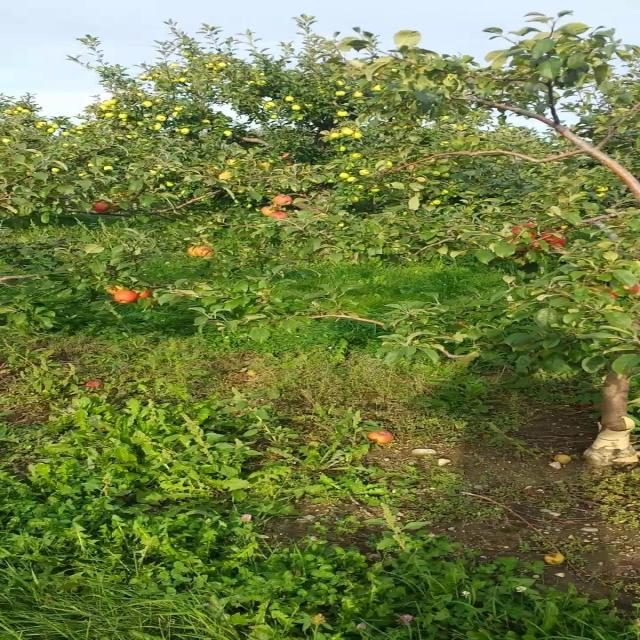apple: (511, 224, 537, 237), (113, 292, 137, 304), (547, 236, 569, 247), (191, 248, 213, 257), (604, 288, 619, 300), (276, 196, 292, 207), (625, 284, 639, 295), (92, 204, 110, 212), (532, 240, 544, 251), (106, 288, 124, 295), (262, 208, 277, 216), (276, 212, 290, 220), (141, 292, 151, 299), (191, 248, 199, 256)
